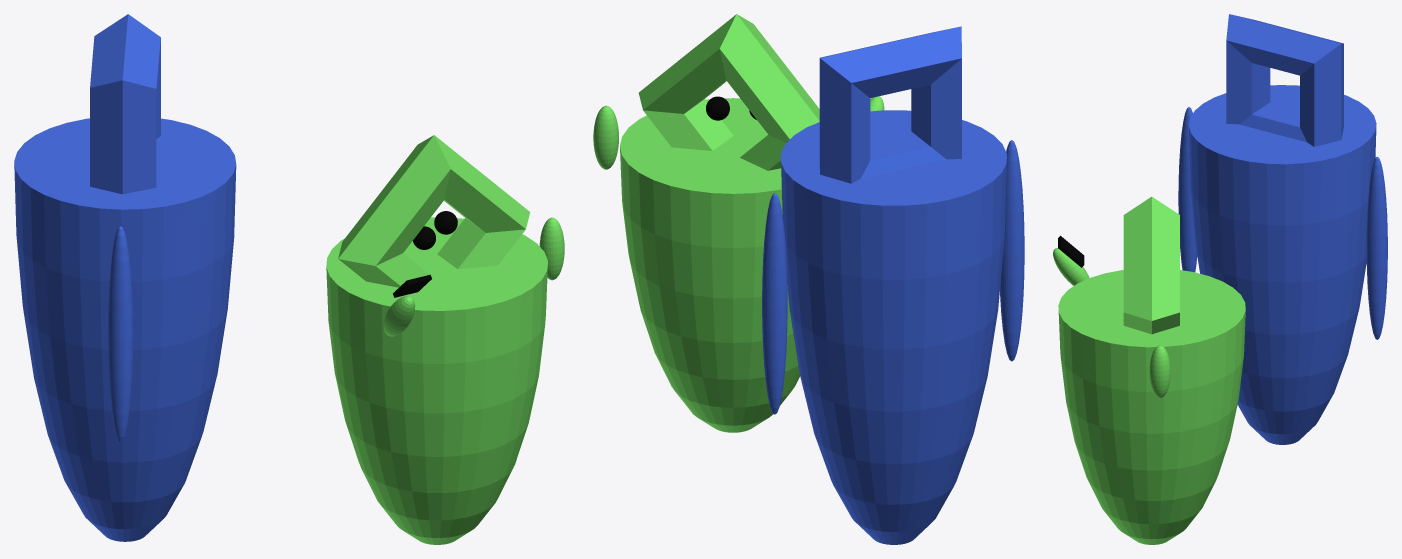
3 views of the same model, side by side, from view 1: azimuth 30°, elevation 25°; view 2: azimuth 150°, elevation 25°; view 3: azimuth 270°, elevation 25° (orthographic). The views are drawn at different scales.
Visible parts, largest first — view 1: Sphere.015, Sphere.010, Torus.435, Torus.434, Sphere.017, Sphere.013, Sphere.014; view 2: Sphere.015, Sphere.010, Torus.434, Torus.435, Sphere.016, Sphere.017, Sphere.013; view 3: Sphere.015, Sphere.010, Torus.434, Torus.435, Sphere.016, Sphere.017, Sphere.013, Sphere.014.
Part boxes in pixels (bbox=[...]): Sphere.015: bbox=[14, 118, 236, 541]; Sphere.010: bbox=[326, 217, 547, 544]; Torus.435: bbox=[338, 135, 530, 287]; Torus.434: bbox=[90, 14, 160, 194]; Sphere.017: bbox=[108, 226, 133, 443]; Sphere.013: bbox=[539, 217, 564, 280]; Sphere.014: bbox=[383, 296, 415, 336]; Sphere.015: bbox=[781, 110, 1006, 544]; Sphere.010: bbox=[620, 98, 799, 432]; Torus.434: bbox=[819, 26, 961, 183]; Torus.435: bbox=[638, 14, 819, 170]; Sphere.016: bbox=[762, 193, 787, 414]; Sphere.017: bbox=[1000, 140, 1024, 361]; Sphere.013: bbox=[593, 105, 618, 169]; Sphere.015: bbox=[1189, 85, 1376, 444]; Sphere.010: bbox=[1058, 270, 1245, 544]; Torus.434: bbox=[1226, 14, 1343, 146]; Torus.435: bbox=[1123, 196, 1179, 334]; Sphere.016: bbox=[1366, 156, 1387, 339]; Sphere.017: bbox=[1178, 107, 1197, 272]; Sphere.013: bbox=[1149, 345, 1170, 398]; Sphere.014: bbox=[1053, 248, 1089, 285].
Size of the model in its own units: 7.01 by 7.16 by 5.22.
